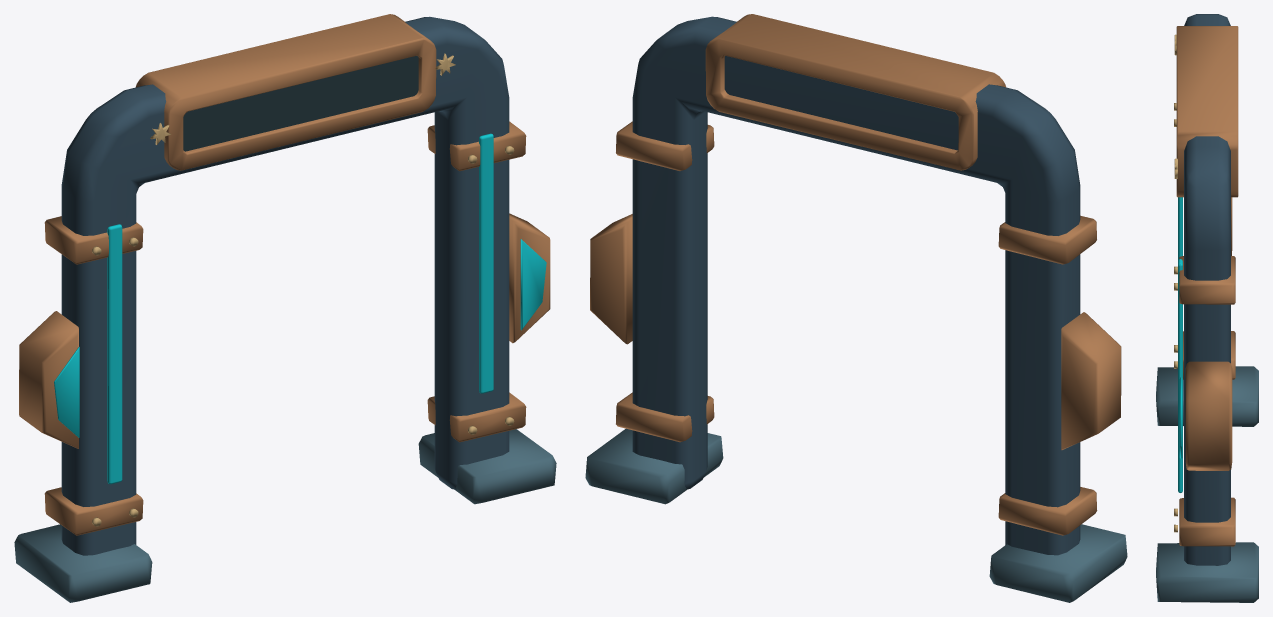
Rendered from STURMBASTION_GATE_FRAME.lo.glb.
3 views of the same model, side by side, from view 1: azimuth 30°, elevation 25°; view 2: azimuth 150°, elevation 25°; view 3: azimuth 270°, elevation 25° (orthographic). The views are drawn at different scales.
Parts seen in each view (by area): view 1: STURMBASTION_GATE_FRAME_Geometry; view 2: STURMBASTION_GATE_FRAME_Geometry; view 3: STURMBASTION_GATE_FRAME_Geometry.
Boxes of the visible parts, bbox=[...] form: STURMBASTION_GATE_FRAME_Geometry: bbox=[14, 14, 556, 602]; STURMBASTION_GATE_FRAME_Geometry: bbox=[585, 14, 1127, 602]; STURMBASTION_GATE_FRAME_Geometry: bbox=[1156, 14, 1258, 602].
Bounding box in the file's own units: 3.57 × 3.17 × 0.7018.
